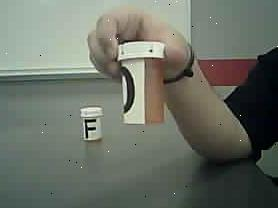Bottle D: (114, 38, 168, 128)
Bottle F: (76, 102, 108, 146)
